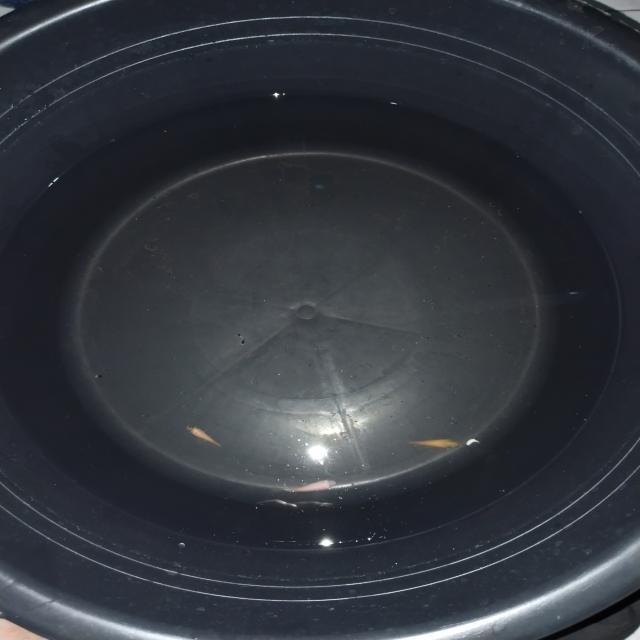nila: (276, 477, 338, 497), (184, 421, 222, 449), (407, 434, 461, 453)
